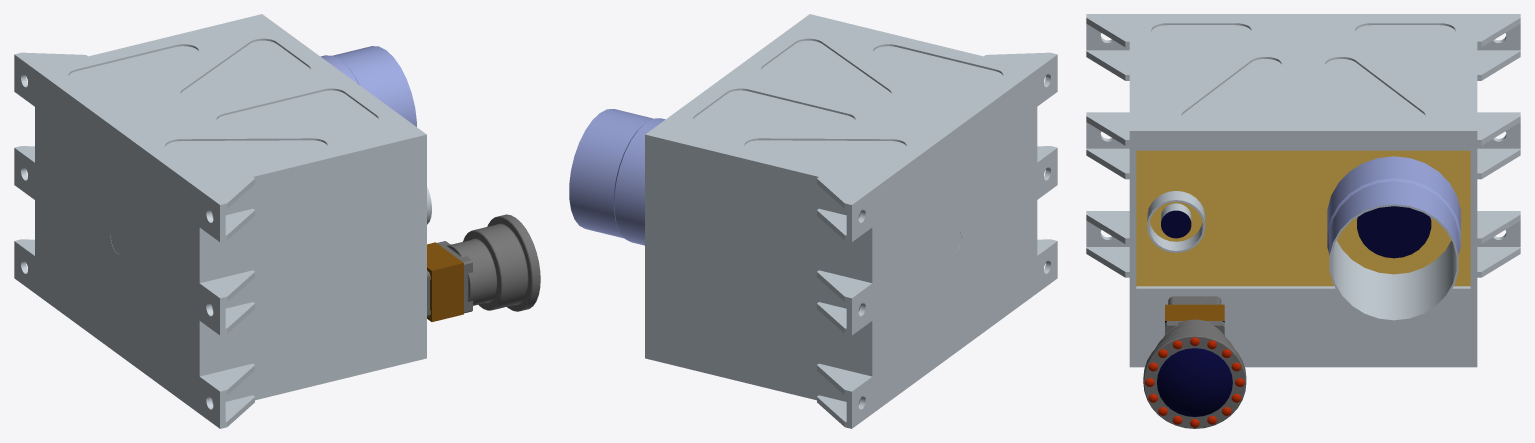
The model's file is rpo_suite.obj.
3 renders of one model, left to right at view 1: azimuth 30°, elevation 25°; view 2: azimuth 150°, elevation 25°; view 3: azimuth 270°, elevation 25°, orthographic. The views are drawn at different scales.
Visible parts, largest first — view 1: ModP1tical_Bench_SM_PickNik_-00; view 2: ModP1tical_Bench_SM_PickNik_-00; view 3: ModP1tical_Bench_SM_PickNik_-00.
Boxes of the visible parts, left/top/right/bottom form: ModP1tical_Bench_SM_PickNik_-00: left=14, top=14, right=540, bottom=428; ModP1tical_Bench_SM_PickNik_-00: left=569, top=14, right=1057, bottom=428; ModP1tical_Bench_SM_PickNik_-00: left=1086, top=14, right=1520, bottom=428.
Bounding box in the file's own units: 0.2555 × 0.1524 × 0.254.
